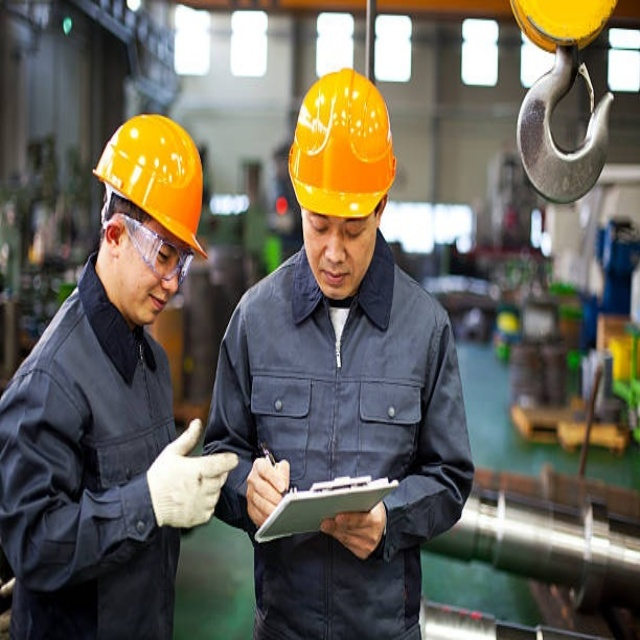Gafas: (111, 210, 193, 281)
Guantes: (146, 418, 241, 530)
Sin_gafas: (305, 215, 372, 248)
Sin_guantes: (319, 500, 386, 558), (246, 454, 291, 525)
Sin_mascara: (317, 264, 351, 300), (134, 285, 167, 322)
